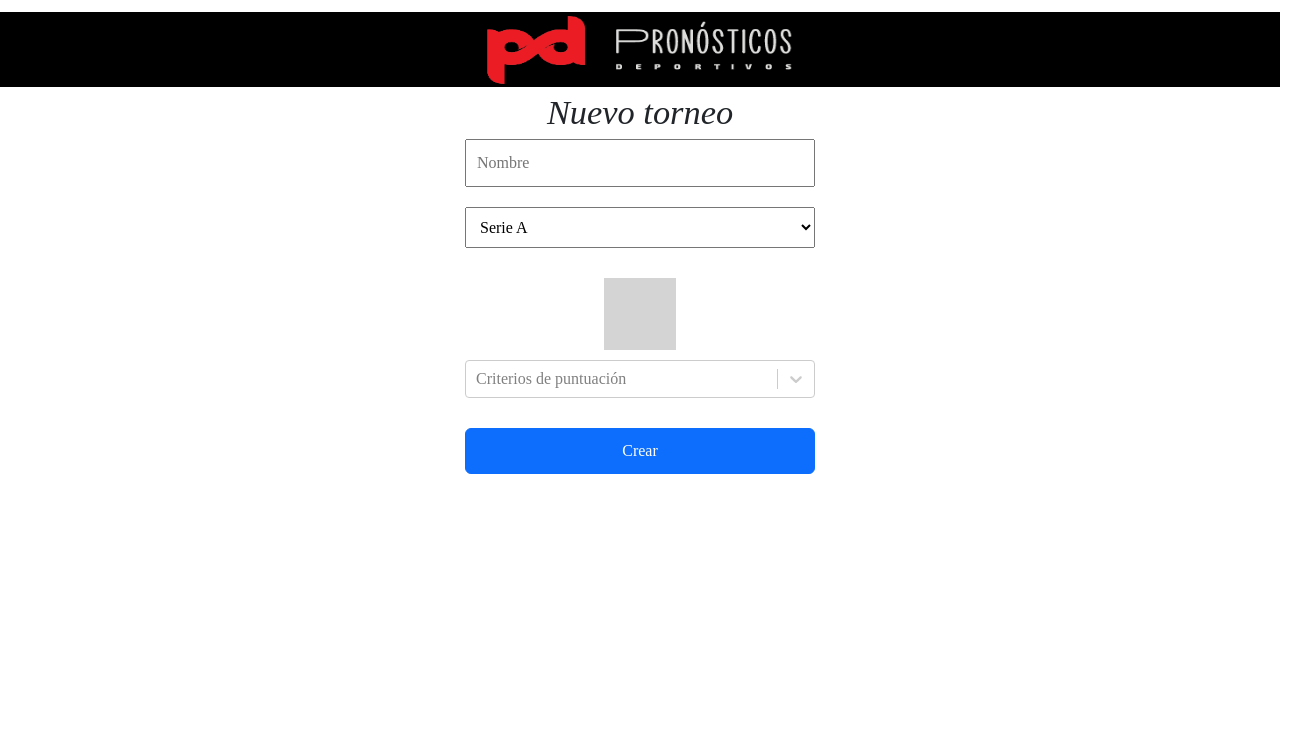
Test case: Create Tournament › seleccionar un criterio de puntuación
Click the dropdown named "Criterios" at (478, 379), box [476, 367, 480, 391]
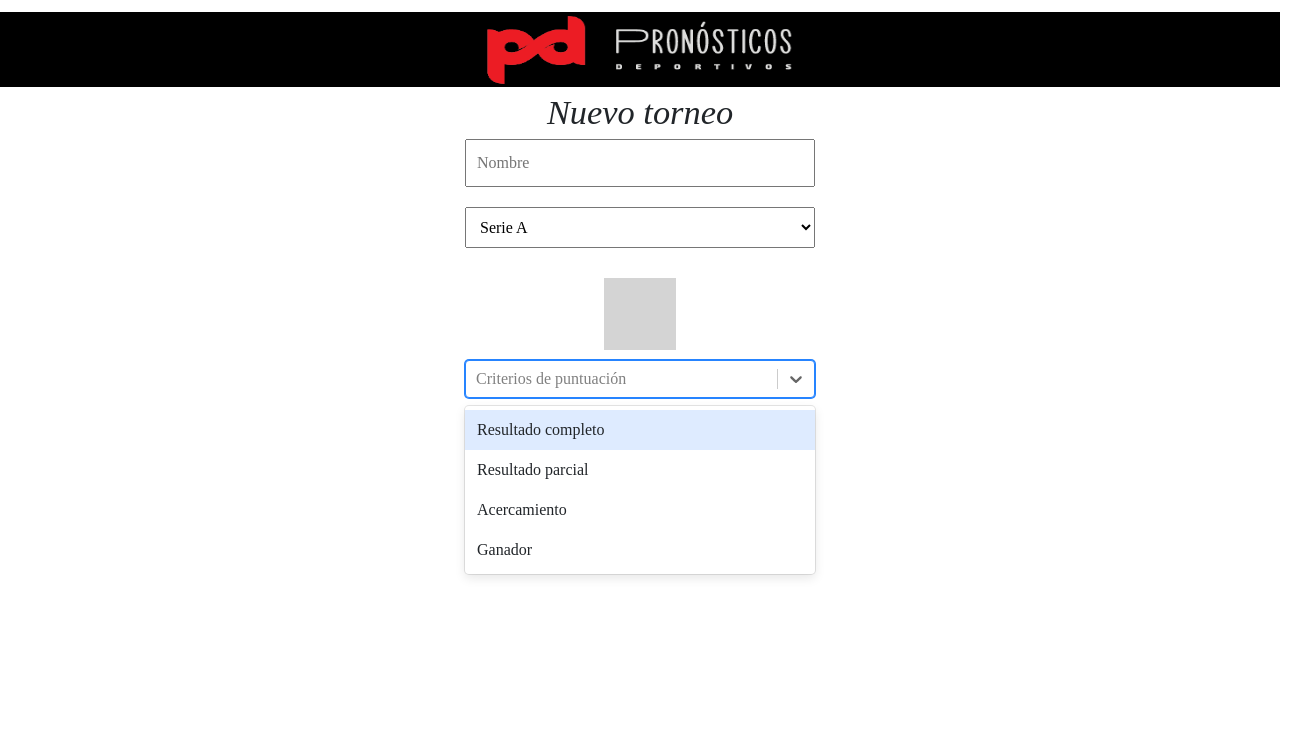
Click the option "Resultado completo" at (541, 429), box [465, 410, 815, 450]
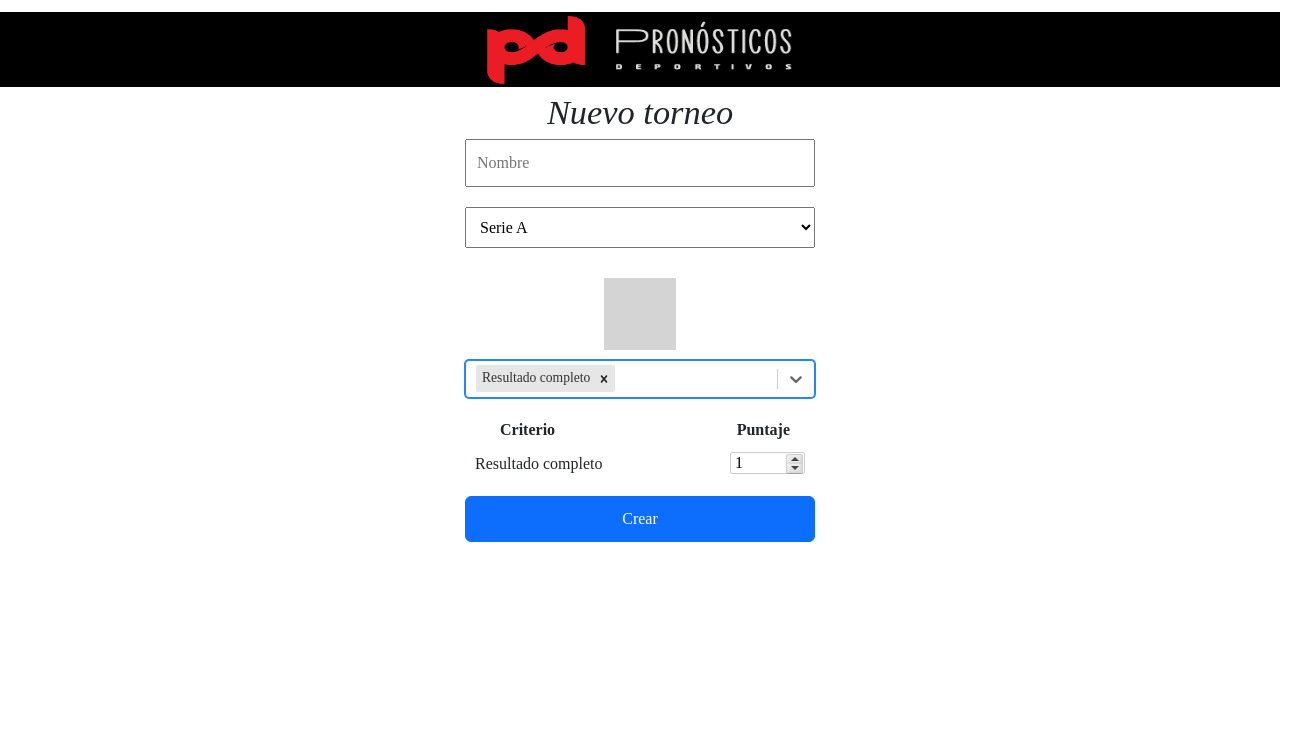
Expected: the element with test id "criterio-tournament" is shown, [500, 418, 790, 442]
